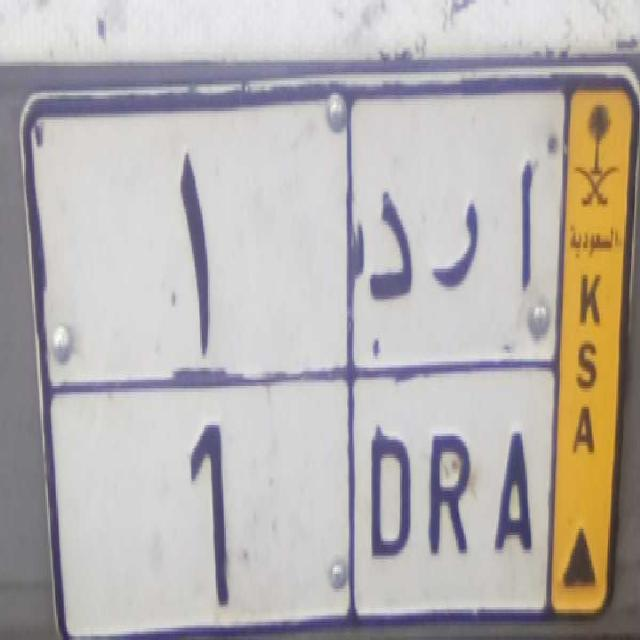license_plate: (40, 366, 555, 640)
